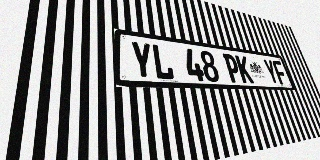4: (183, 48, 205, 81)
8: (199, 50, 220, 82)
F: (272, 60, 289, 85)
K: (235, 55, 254, 83)
L: (151, 43, 175, 80)
P: (222, 53, 242, 83)
Y: (130, 41, 155, 79), (262, 59, 280, 84)
